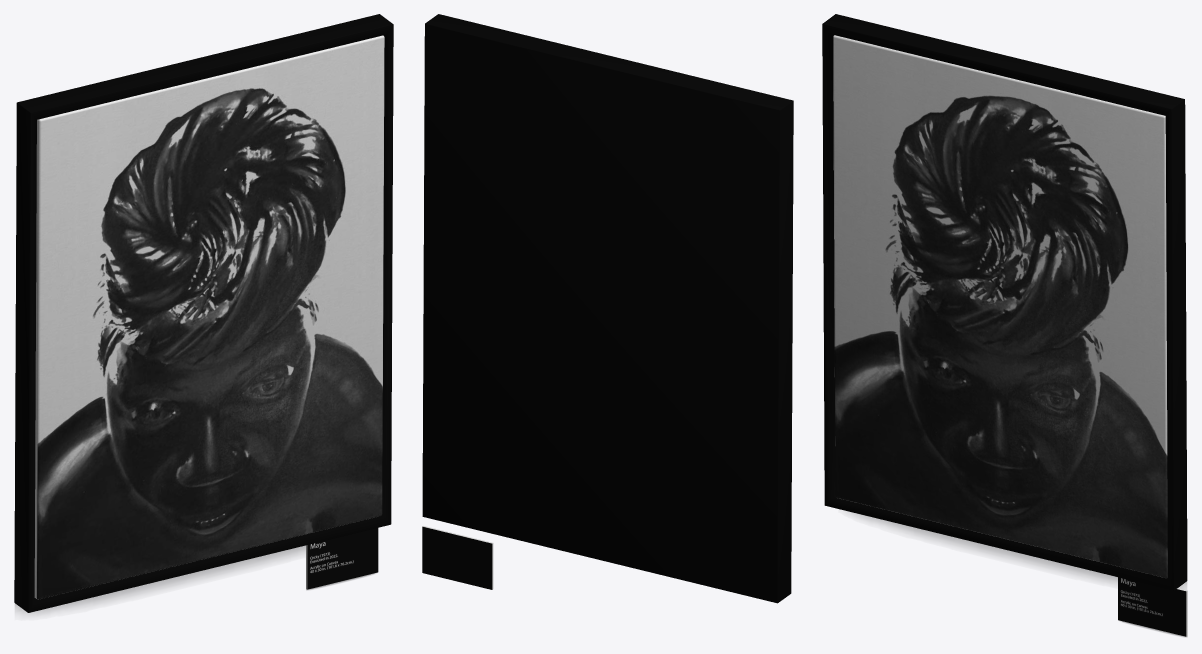
Rendered from maya.glb.
The picture shows the model from 3 angles, left to right: view 1: azimuth 30°, elevation 25°; view 2: azimuth 150°, elevation 25°; view 3: azimuth 330°, elevation 25°; orthographic projection. The views are drawn at different scales.
Parts seen in each view (by area): view 1: Canvas, frame, Box001, Plane001; view 2: frame, Box001; view 3: Canvas, frame, Box001, Plane001.
Part boxes in pixels (x1=…): Canvas: x1=34, y1=35, x2=384, y2=599; frame: x1=14, y1=14, x2=393, y2=612; Box001: x1=306, y1=528, x2=378, y2=589; Plane001: x1=15, y1=546, x2=305, y2=612; frame: x1=422, y1=14, x2=793, y2=603; Box001: x1=422, y1=526, x2=493, y2=589; Canvas: x1=833, y1=35, x2=1167, y2=578; frame: x1=822, y1=14, x2=1187, y2=590; Box001: x1=1118, y1=577, x2=1187, y2=636; Plane001: x1=857, y1=514, x2=1186, y2=588.
Size of the model in its own units: 8.01 by 11.88 by 0.6293.
Materials: 2 (1 with a texture image).
